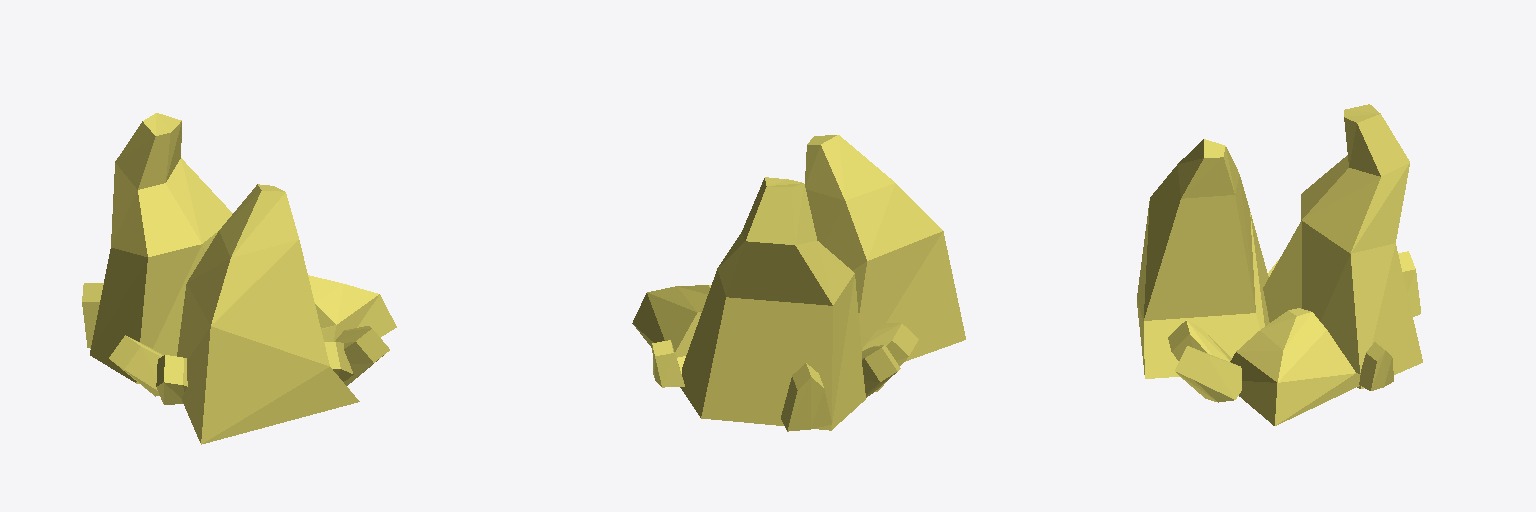
The picture shows the model from 3 angles: view 1: azimuth 30°, elevation 25°; view 2: azimuth 150°, elevation 25°; view 3: azimuth 270°, elevation 25°; orthographic projection.
Parts seen in each view (by area): view 1: Rock_Type3_02_mesh.001; view 2: Rock_Type3_02_mesh.001; view 3: Rock_Type3_02_mesh.001.
Boxes of the visible parts, box(x1,y1,x2,y2) form: Rock_Type3_02_mesh.001: box(82, 113, 396, 444); Rock_Type3_02_mesh.001: box(632, 135, 965, 431); Rock_Type3_02_mesh.001: box(1137, 104, 1422, 425).
Size of the model in its own units: 0.063 by 0.0515 by 0.0565.
1 materials, 1 textured.